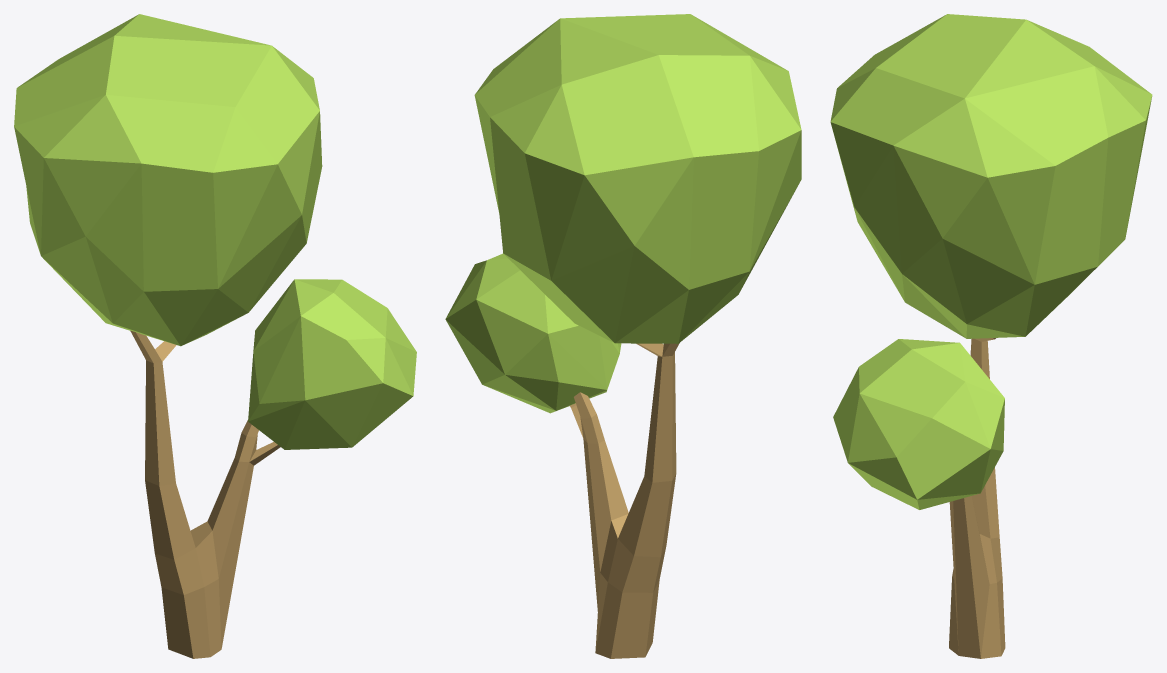
The model's file is Simple_Tree_m_BT_03.fbx.
3 views of the same model, side by side, from view 1: azimuth 30°, elevation 25°; view 2: azimuth 150°, elevation 25°; view 3: azimuth 270°, elevation 25° (orthographic). The views are drawn at different scales.
Visible parts, largest first — view 1: Simple_Tree_m_BT_03; view 2: Simple_Tree_m_BT_03; view 3: Simple_Tree_m_BT_03.
Part boxes in pixels (x1,y1,x2,y2): Simple_Tree_m_BT_03: (14, 14, 416, 658); Simple_Tree_m_BT_03: (445, 14, 801, 658); Simple_Tree_m_BT_03: (830, 14, 1152, 658).
Bounding box in the file's own units: 559 × 932 × 452.
